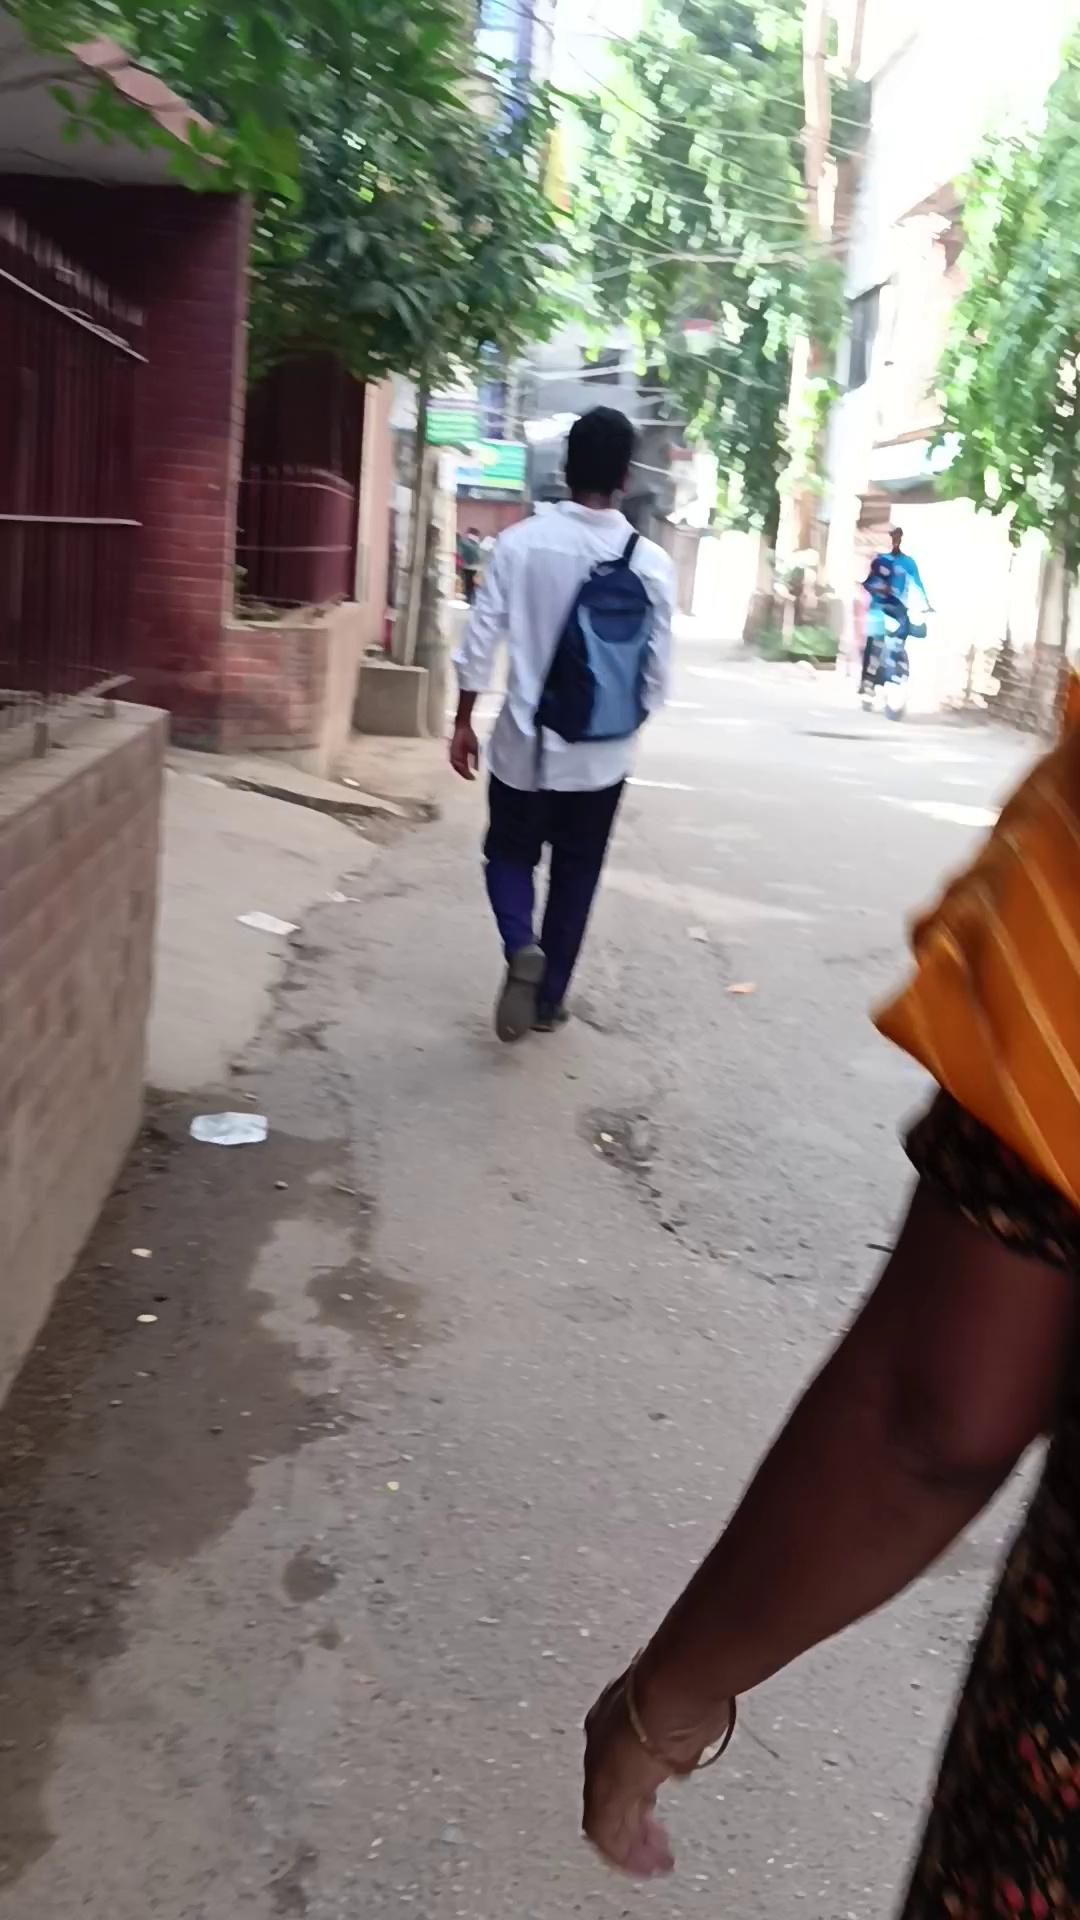Garbage: (233, 462, 357, 607)
Muddy road: (579, 662, 1077, 1915), (447, 404, 676, 1043), (856, 525, 934, 719), (458, 526, 483, 603)
Potted-plant: (3, 622, 1064, 1916)
